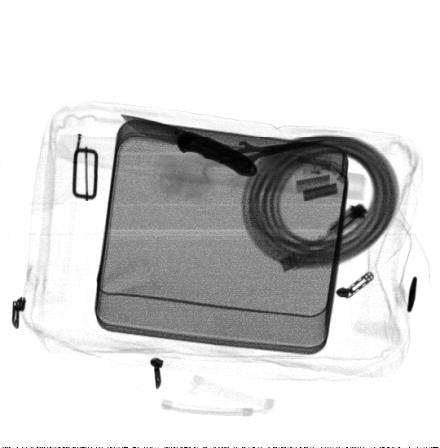Knife: (120, 114, 259, 177)
Scissors: (191, 132, 326, 186)
